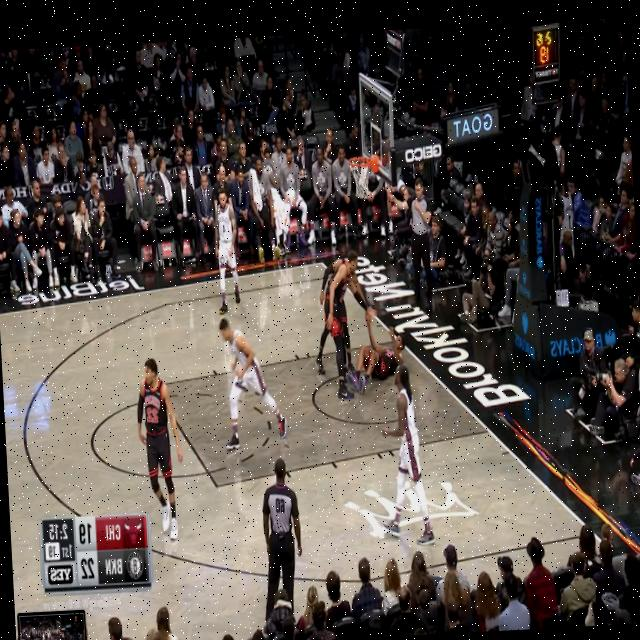no foul: (184, 302, 297, 476), (299, 242, 422, 401)
